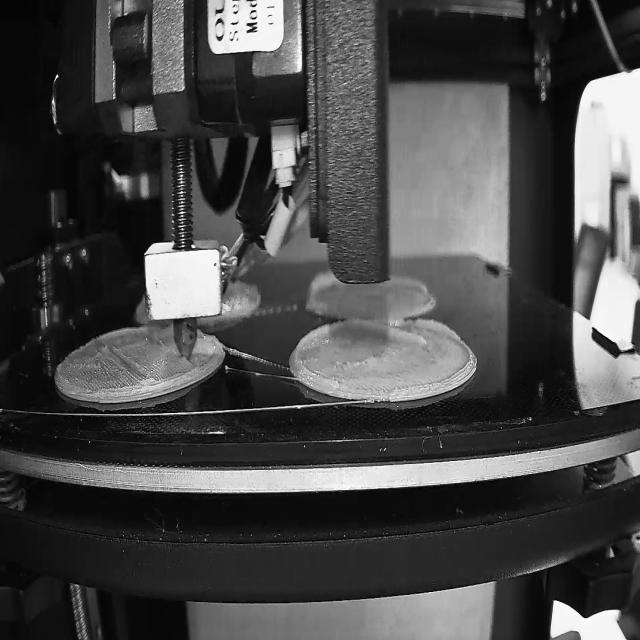over_extrusion: (348, 316, 462, 350), (293, 319, 344, 383), (309, 272, 330, 297)
